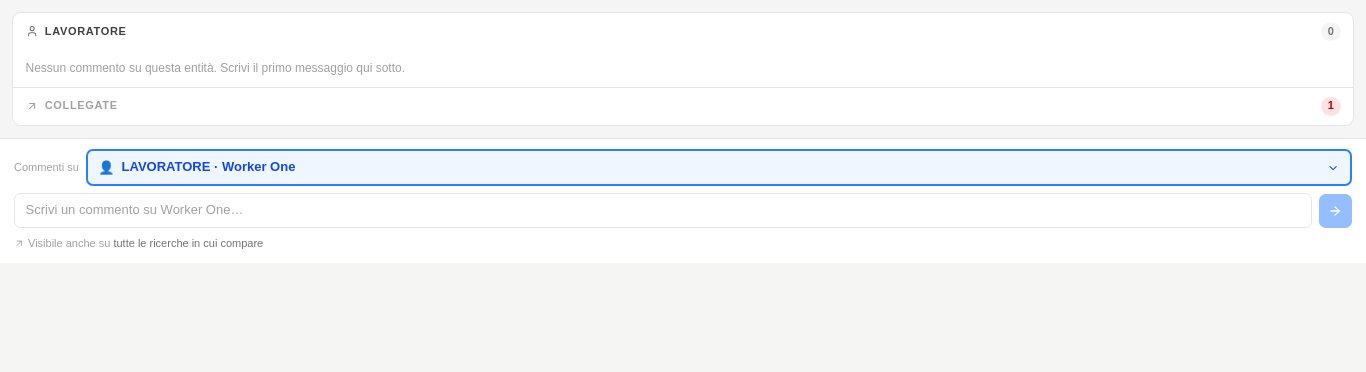
Comment descendants section › shows unread mention highlight in collegate and scrolls the thread into view
Expected: the text with test id "comments-section-count" reads "1", [1328,100,1334,112]
Click the button with test id "comments-section-toggle-descendants" at (81, 105), box [13,88,1353,125]
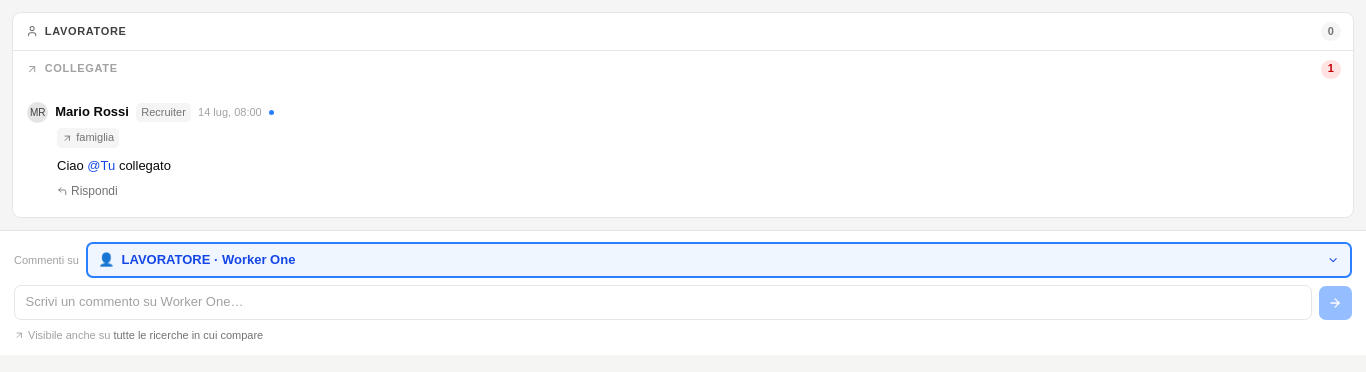
Expected: the element named "Non letto" is shown, [269,110,274,115]
Expected: the text with test id "comments-mention-highlight" reads "@Tu", [87,158,115,172]
